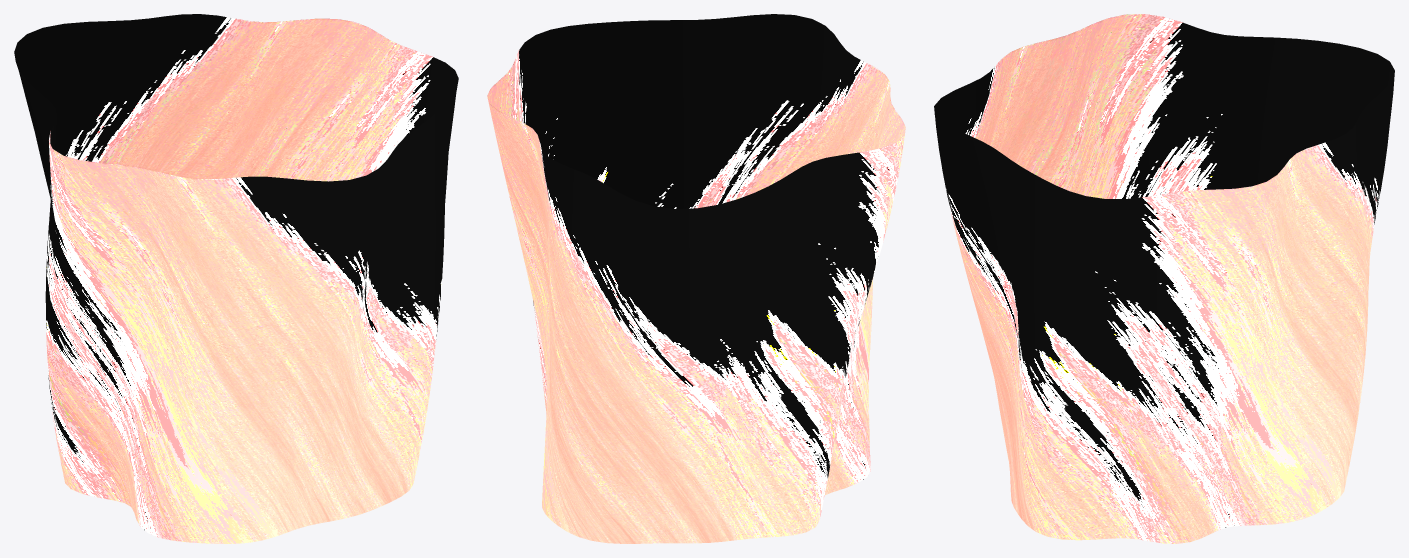
The model's file is devil_mid_3.glb.
3 renders of one model, left to right at view 1: azimuth 30°, elevation 25°; view 2: azimuth 150°, elevation 25°; view 3: azimuth 270°, elevation 25°, orthographic.
Parts seen in each view (by area): view 1: devil_mid_3; view 2: devil_mid_3; view 3: devil_mid_3.
Part boxes in pixels (bbox=[...]): devil_mid_3: bbox=[14, 14, 458, 543]; devil_mid_3: bbox=[487, 14, 905, 543]; devil_mid_3: bbox=[934, 14, 1394, 543].
Bounding box in the file's own units: 12.81 × 12 × 13.48.
1 material, 1 textured.
